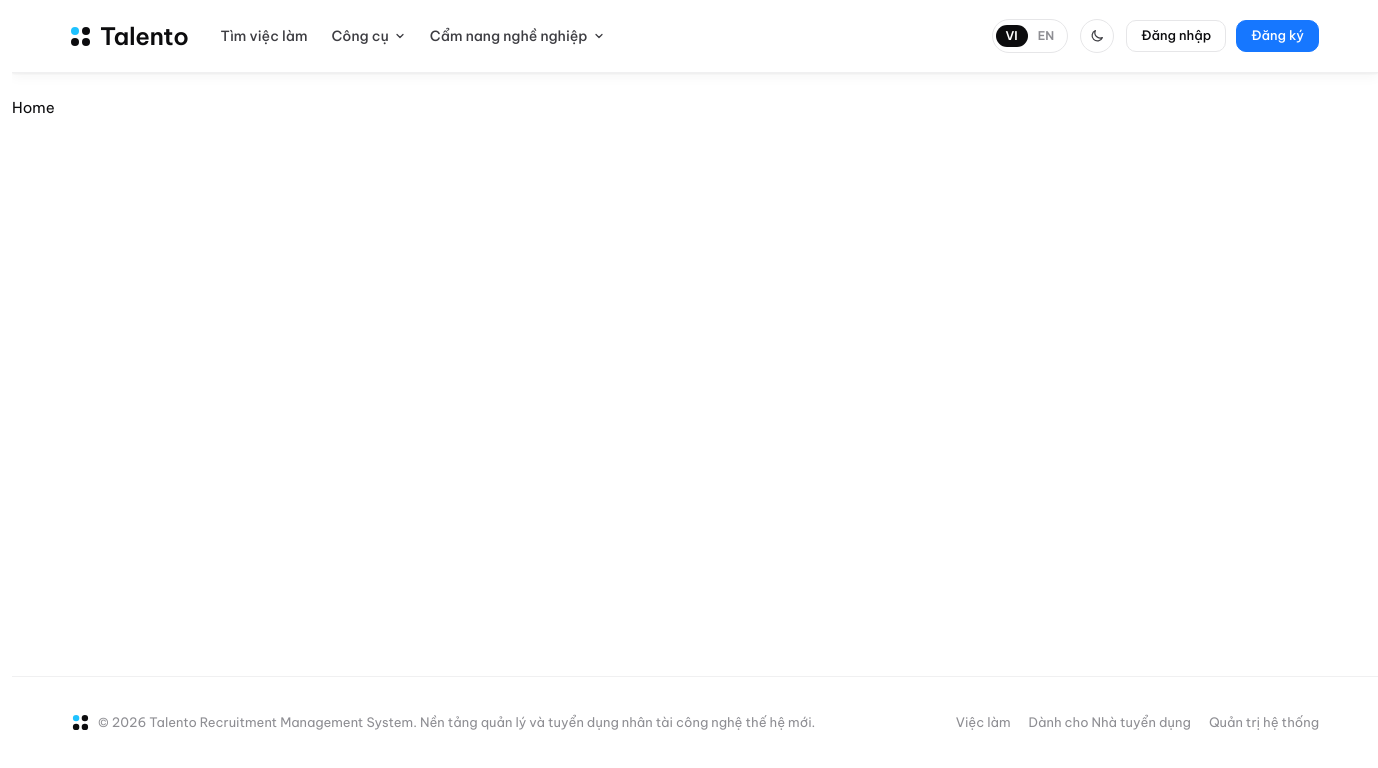
Scenario: PublicLayout Header Navigation Role-Based Display › renders Tools dropdown menu with 3 items when clicked
Check: the text "Bộ câu hỏi phỏng vấn" is not shown
// Open menu
Click the button "Công cụ". click: (369, 36)
box: left=332, top=20, right=406, bottom=52
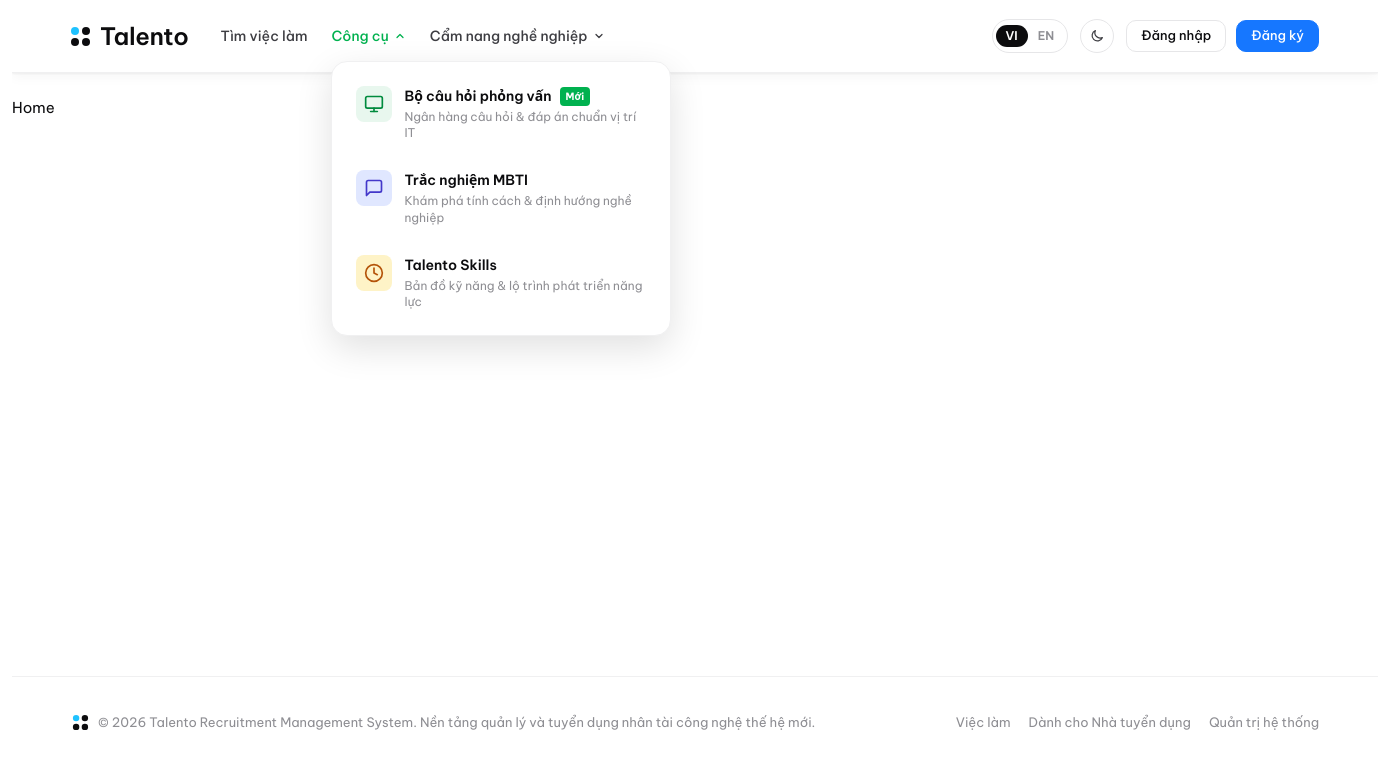
Check: the text "Bộ câu hỏi phỏng vấn" is shown, box left=404, top=86, right=552, bottom=106
Check: the text "Mới" is shown, box left=560, top=86, right=590, bottom=106
Check: the text "Trắc nghiệm MBTI" is shown, box left=404, top=171, right=528, bottom=189
